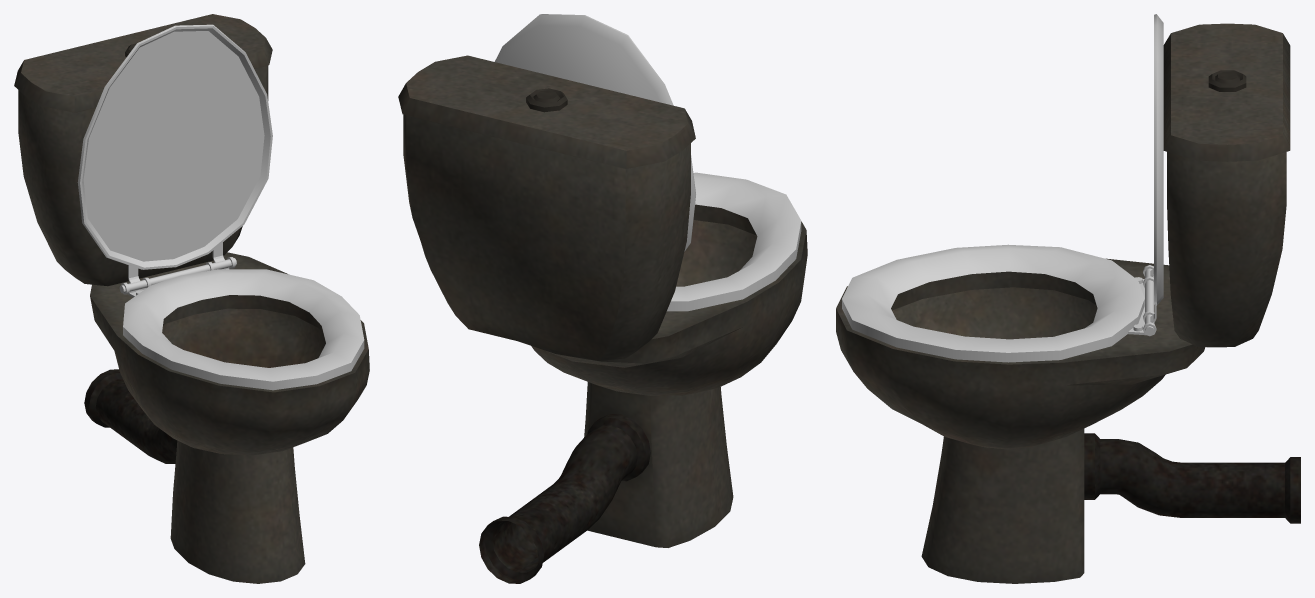
The model's file is toilet_mp_1_1.obj.
3 renders of one model, left to right at view 1: azimuth 30°, elevation 25°; view 2: azimuth 150°, elevation 25°; view 3: azimuth 270°, elevation 25°, orthographic. The views are drawn at different scales.
Visible parts, largest first — view 1: toilet_mp_1_1, toilet_mp_1_1_lid; view 2: toilet_mp_1_1, toilet_mp_1_1_lid; view 3: toilet_mp_1_1, toilet_mp_1_1_lid.
Boxes of the visible parts, <box> form: toilet_mp_1_1: <box>14,14,369,583</box>; toilet_mp_1_1_lid: <box>77,24,272,294</box>; toilet_mp_1_1: <box>398,55,807,583</box>; toilet_mp_1_1_lid: <box>494,14,695,251</box>; toilet_mp_1_1: <box>836,23,1300,583</box>; toilet_mp_1_1_lid: <box>1143,14,1163,336</box>.
Bounding box in the file's own units: 0.5728 × 1.11 × 0.8822.
